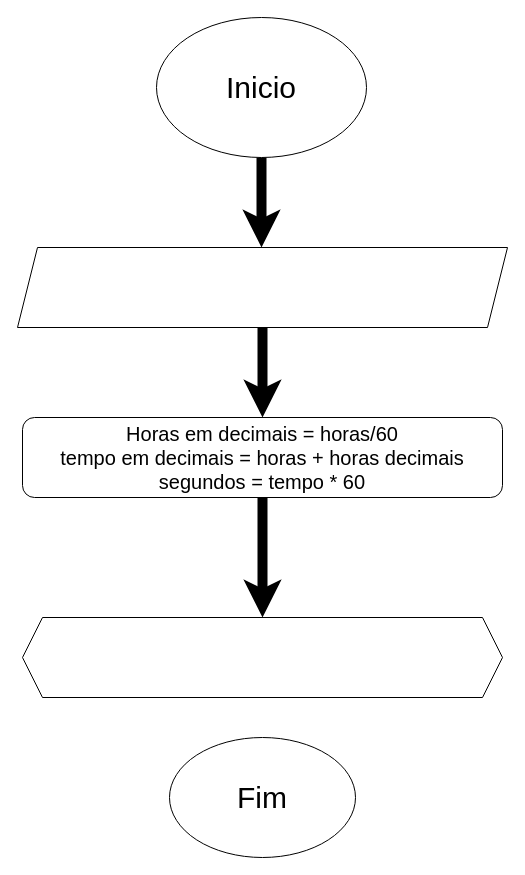
Some shapes in this 525 by 875 pixel diagram are drawn without their labels. Here are the shapes that lost their labels. From the top down, the box of each, then its label:
(16, 246, 508, 328): horas = conversão em segundos minutos = conversão em segundos
(22, 616, 502, 698): segundos
